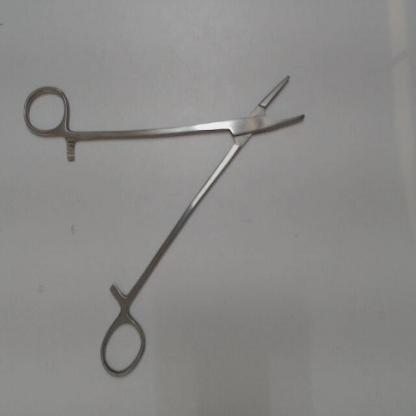8 Mayo Needle Holder: (16, 66, 319, 386)
